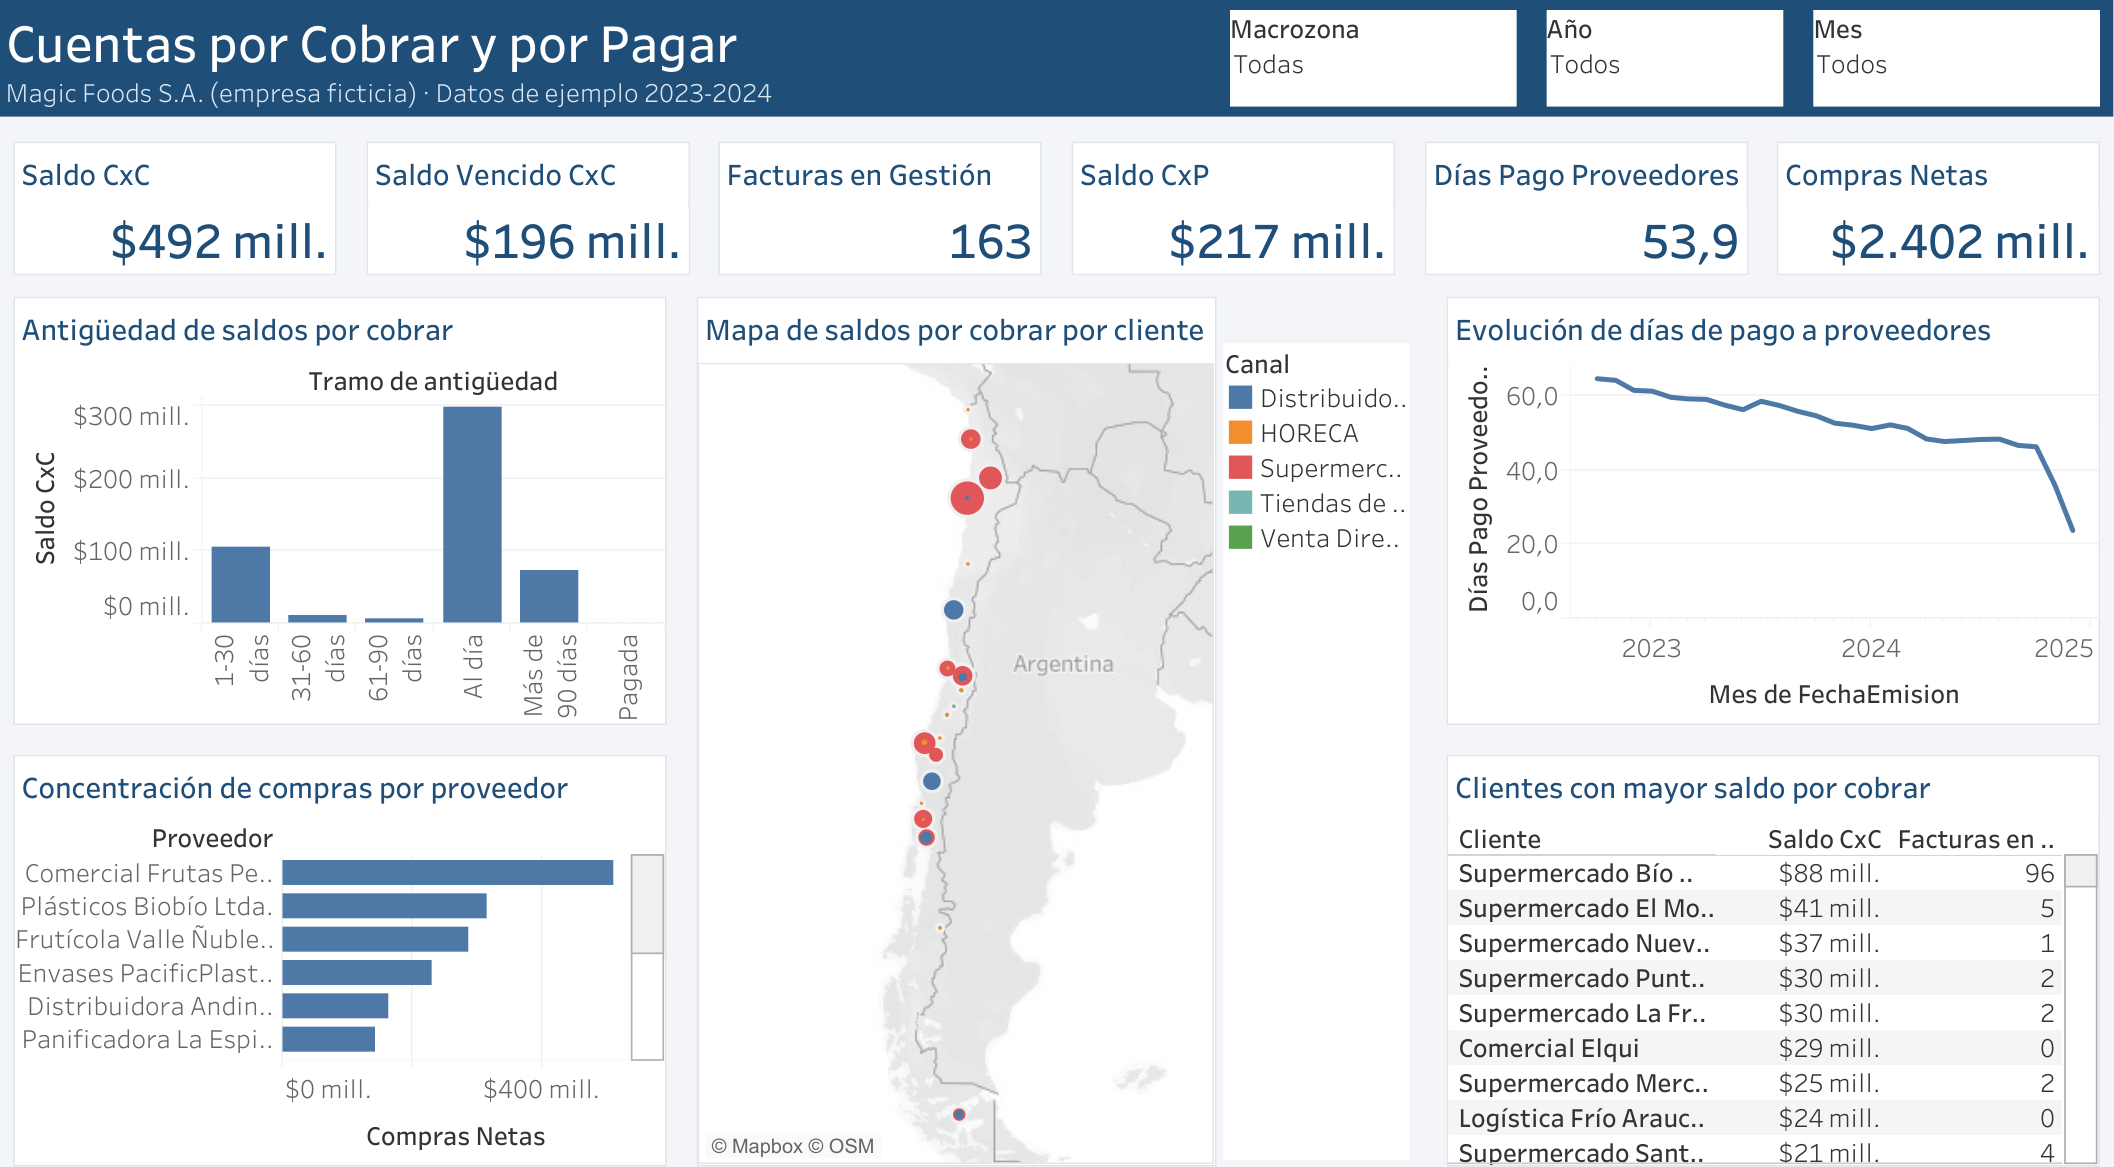

What the dashboard file says about the page in this screenshot:
{"tool":"tableau","page":{"name":"Cobranza y Proveedores","canvas":[1280,720],"ordinal":3},"visuals":[{"type":"text","box":[0,0,1280,82]},{"type":"parameter","param":"[Parameters].[pMacro]","box":[740,8,180,66]},{"type":"parameter","param":"[Parameters].[pAnio]","box":[930,8,150,66]},{"type":"parameter","param":"[Parameters].[pMes]","box":[1090,8,180,66]},{"type":"worksheet","title":"B · Saldo CxC","mark":"Text","box":[10,87,202,88]},{"type":"worksheet","title":"B · Saldo Vencido","mark":"Text","box":[222,87,202,88]},{"type":"worksheet","title":"B · Facturas en Gestion","mark":"Text","box":[433,87,202,88]},{"type":"worksheet","title":"B · Saldo CxP","mark":"Text","box":[645,87,202,88]},{"type":"worksheet","title":"B · Dias Pago","mark":"Text","box":[857,87,202,88]},{"type":"worksheet","title":"B · Compras","mark":"Text","box":[1068,87,202,88]},{"type":"worksheet","title":"B · Antiguedad Saldos","mark":"Bar","rows":["SaldoCxC"],"cols":["TramoAntiguedad"],"box":[10,180,400,265]},{"type":"worksheet","title":"B · Mapa CxC","mark":"Circle","rows":["Latitud"],"cols":["Longitud"],"box":[420,180,320,530]},{"type":"worksheet","title":"B · Dias Pago Mensual","mark":"Line","rows":["DiasPago"],"cols":["FechaEmision"],"box":[870,180,400,265]},{"type":"legend","title":"B · Mapa CxC","param":"[federated.e1de5242c0fdf5d5266836a99483].[none:Canal:nk]","box":[740,212,112,490]},{"type":"worksheet","title":"B · Compras por Proveedor","mark":"Bar","rows":["Proveedor"],"cols":["Compras"],"box":[10,455,400,255]},{"type":"worksheet","title":"B · Clientes Mayor Saldo","mark":"Text","rows":["Cliente"],"box":[870,455,400,255]}]}

Visuals, with their boxes in screenshot pixels (x1, y1, x2, y2), scaled from the page's 1280x720 canvas onto the 2114x1167 screenshot:
text: left=0, top=0, right=2113, bottom=133
parameter: left=1222, top=13, right=1519, bottom=120
parameter: left=1536, top=13, right=1784, bottom=120
parameter: left=1800, top=13, right=2097, bottom=120
"B · Saldo CxC" worksheet (Text marks): left=17, top=141, right=350, bottom=284
"B · Saldo Vencido" worksheet (Text marks): left=367, top=141, right=700, bottom=284
"B · Facturas en Gestion" worksheet (Text marks): left=715, top=141, right=1049, bottom=284
"B · Saldo CxP" worksheet (Text marks): left=1065, top=141, right=1399, bottom=284
"B · Dias Pago" worksheet (Text marks): left=1415, top=141, right=1749, bottom=284
"B · Compras" worksheet (Text marks): left=1764, top=141, right=2097, bottom=284
"B · Antiguedad Saldos" worksheet (Bar marks): left=17, top=292, right=677, bottom=721
"B · Mapa CxC" worksheet (Circle marks): left=694, top=292, right=1222, bottom=1151
"B · Dias Pago Mensual" worksheet (Line marks): left=1437, top=292, right=2097, bottom=721
"B · Mapa CxC" legend: left=1222, top=344, right=1407, bottom=1138
"B · Compras por Proveedor" worksheet (Bar marks): left=17, top=737, right=677, bottom=1151
"B · Clientes Mayor Saldo" worksheet (Text marks): left=1437, top=737, right=2097, bottom=1151
